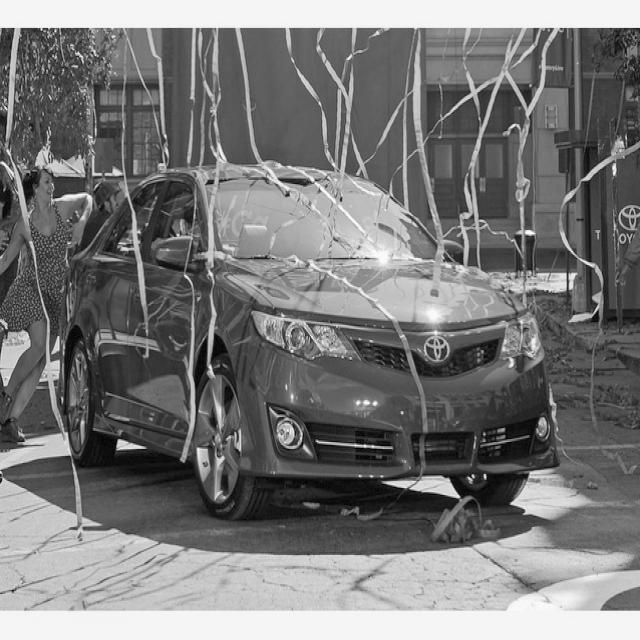car: (56, 160, 561, 520)
